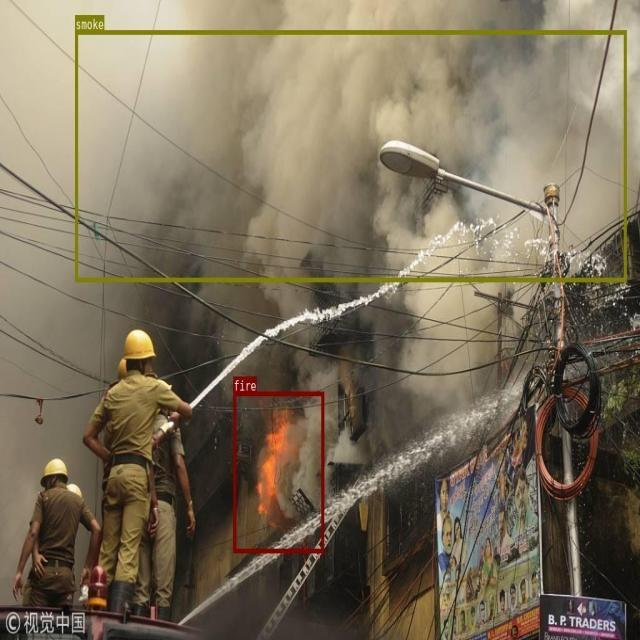fire: (233, 391, 324, 552)
smoke: (75, 30, 626, 280)
